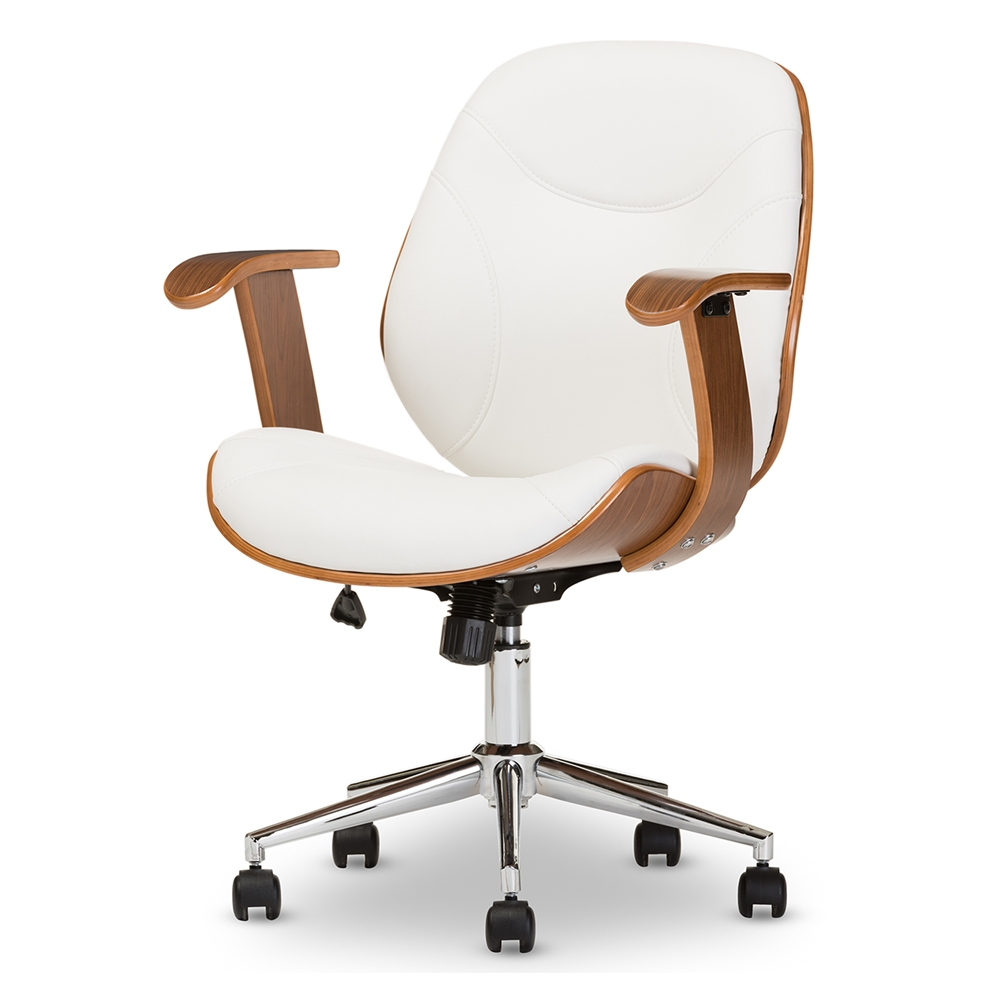chairs: (154, 12, 862, 967)
